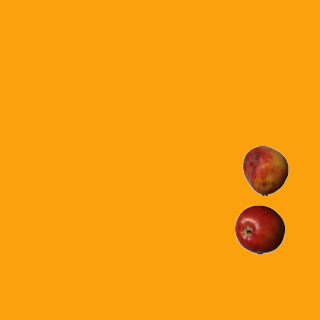Apple Braeburn: (234, 204, 284, 254)
Peach: (240, 145, 290, 195)
